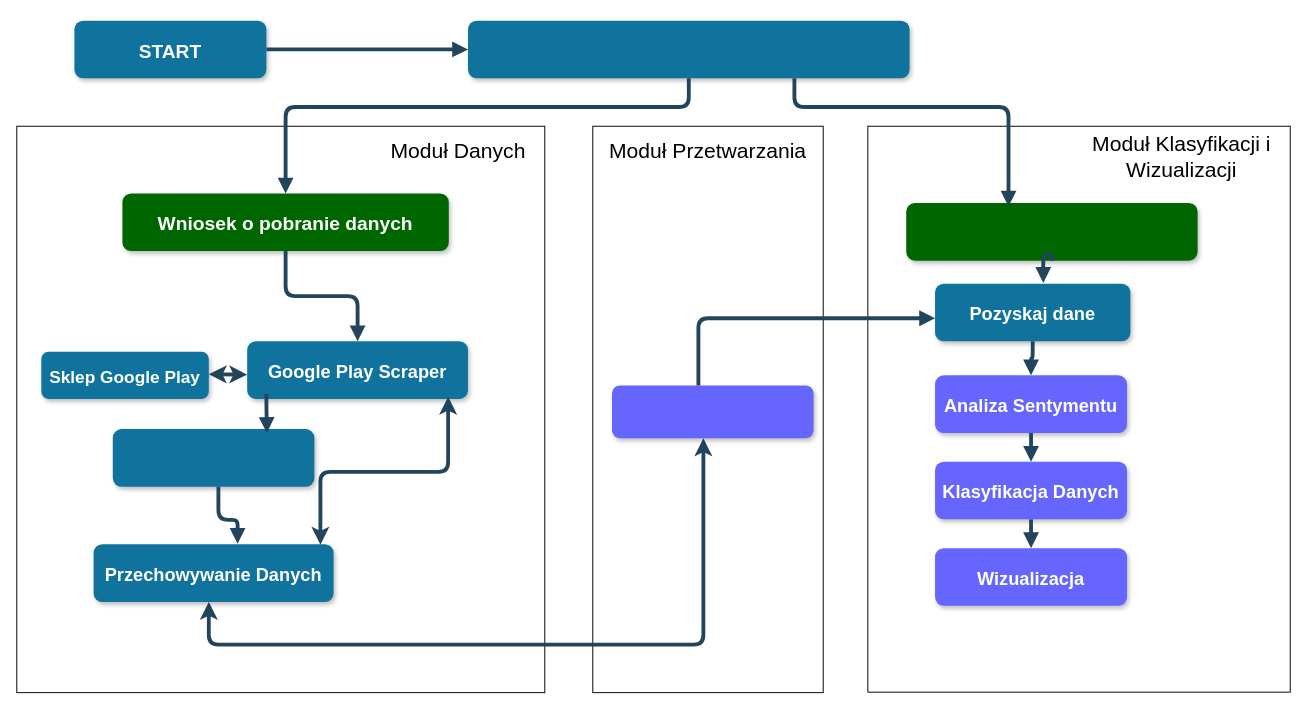
Image size: 1308x709. Some labels were removed from this diagram. The centre of each missing label's shape, as x and y in pixels:
Gromadzenie Danych: pixel 214 459
Przetwarzanie Danych: pixel 713 412
Sprawdź wymagania, uzyskaj dostęp do danych: pixel 689 50
Wniosek o analizę danych: pixel 1052 233
